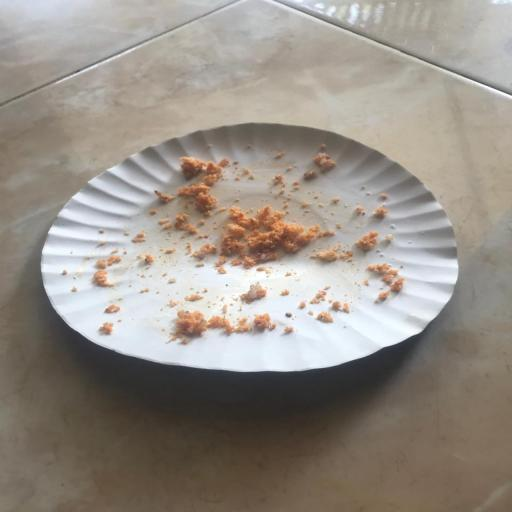waste: (30, 109, 478, 382)
